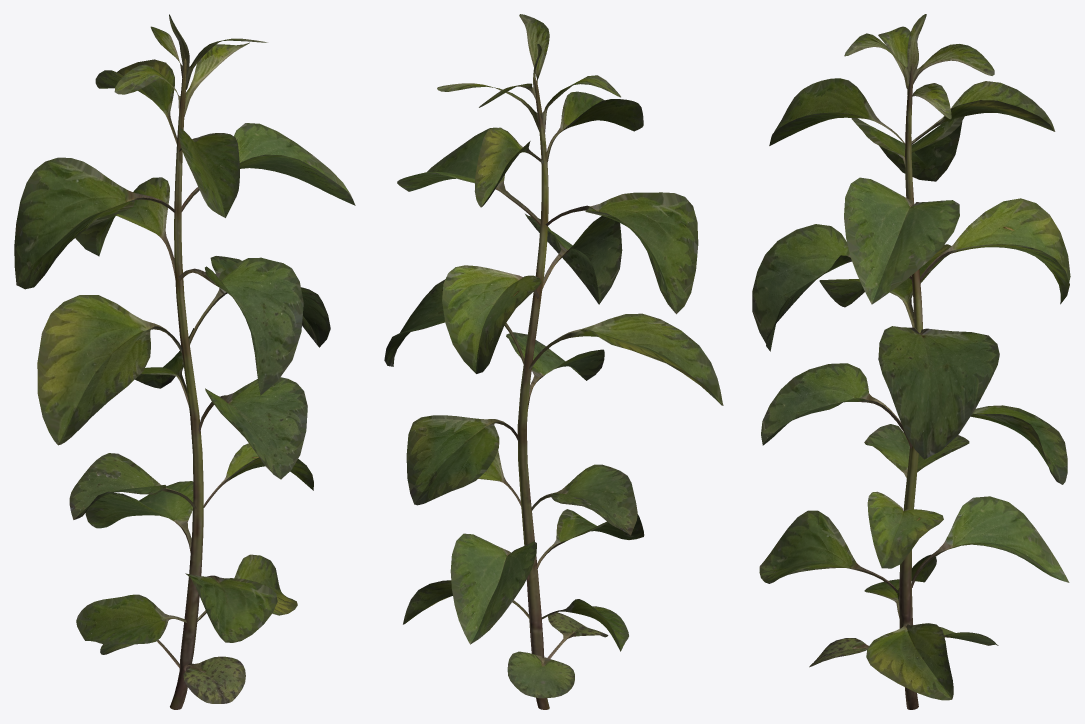
The model's file is plant1.glb.
3 renders of one model, left to right at view 1: azimuth 30°, elevation 25°; view 2: azimuth 150°, elevation 25°; view 3: azimuth 270°, elevation 25°, orthographic. The views are drawn at different scales.
Parts seen in each view (by area): view 1: nettle_plant_tall_a_LOD0; view 2: nettle_plant_tall_a_LOD0; view 3: nettle_plant_tall_a_LOD0.
Part boxes in pixels (x1=…): nettle_plant_tall_a_LOD0: x1=14, y1=14, x2=355, y2=709; nettle_plant_tall_a_LOD0: x1=384, y1=14, x2=723, y2=709; nettle_plant_tall_a_LOD0: x1=752, y1=14, x2=1070, y2=709.
Size of what is drawn, in the model's own units: 0.7122 by 1.49 by 0.6192.
1 material, 1 textured.
